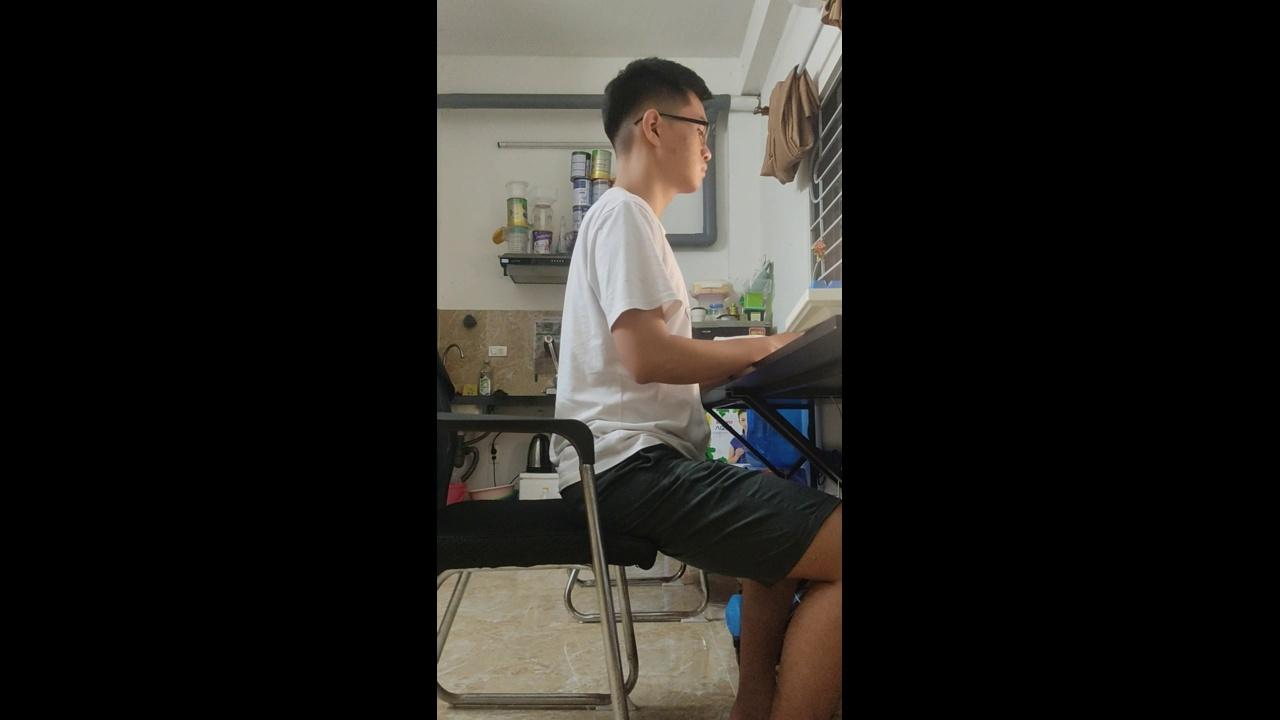GoodPosture: (556, 58, 842, 719), (556, 58, 755, 489)
